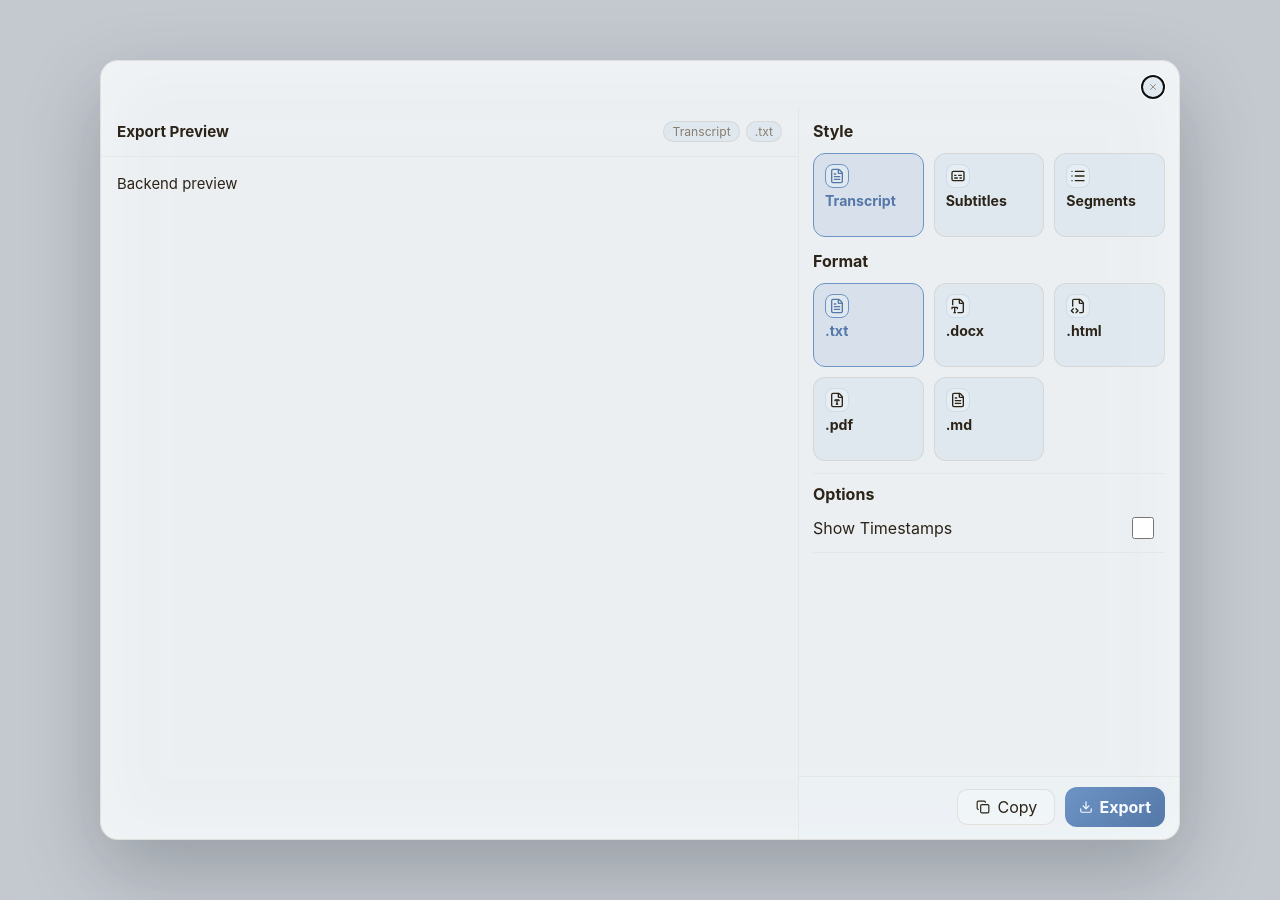
ExportSheet › keeps the sheet open and restores controls after an unexpected rejection
Click the button "Export" at (1115, 807), box [1065,787,1165,827]
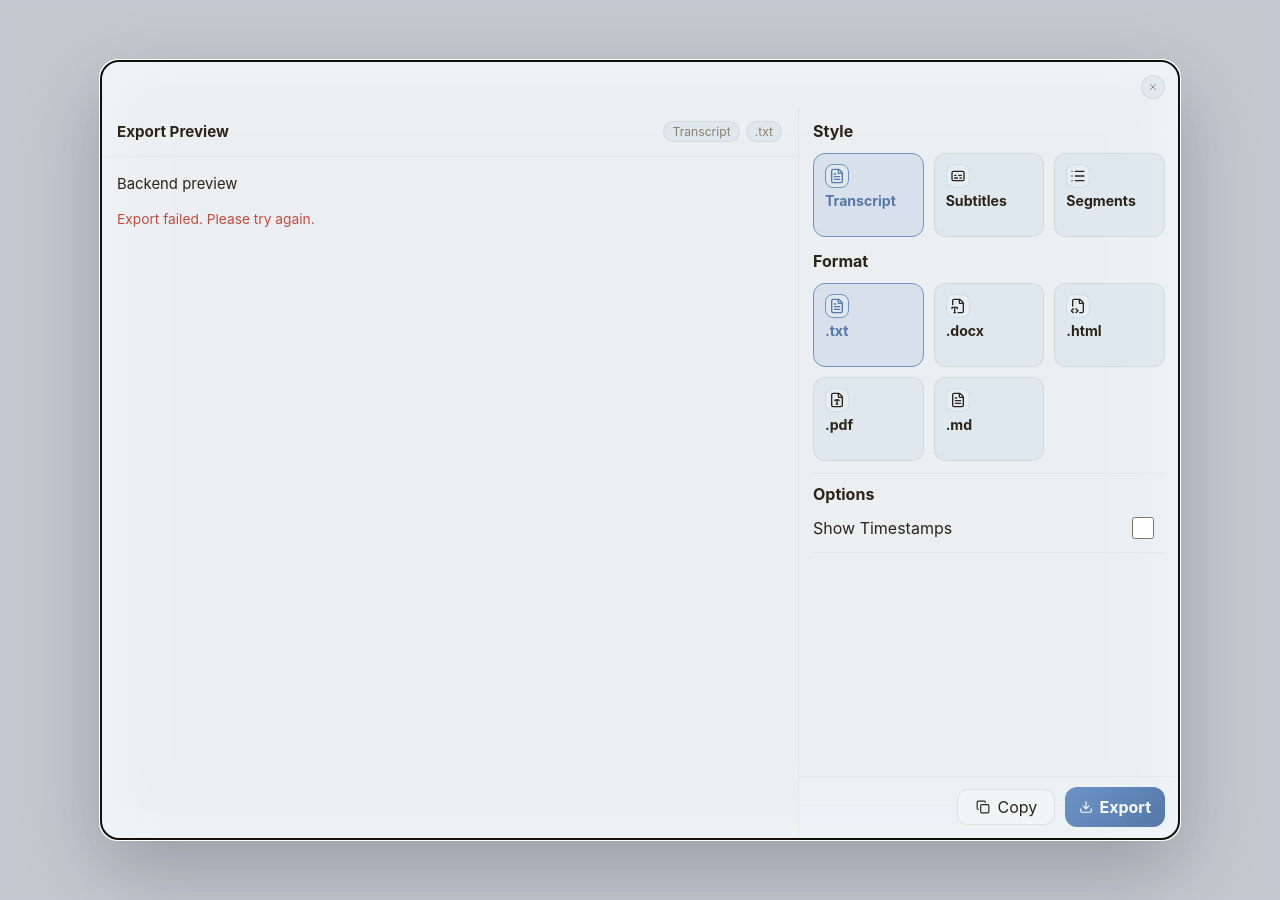
Now the message shows "Export failed", box [117,211,315,227]
